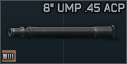HK UMP .45 ACP 8 inch barrel: (0, 0, 127, 64)
